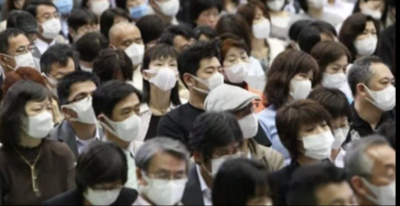with_mask: (145, 165, 189, 205), (301, 119, 337, 161), (23, 102, 55, 139), (211, 145, 244, 178), (368, 75, 396, 113), (150, 56, 178, 92), (117, 102, 141, 143), (86, 180, 124, 205), (235, 102, 260, 139), (73, 88, 99, 123), (225, 50, 251, 84), (376, 161, 395, 205), (322, 60, 349, 89), (10, 40, 36, 70), (354, 26, 379, 57), (120, 35, 145, 65), (328, 118, 351, 150), (202, 63, 226, 93), (39, 9, 62, 40), (291, 71, 314, 101), (51, 70, 73, 98), (250, 12, 272, 40), (363, 2, 384, 21)
without_mask: (201, 9, 220, 29)
